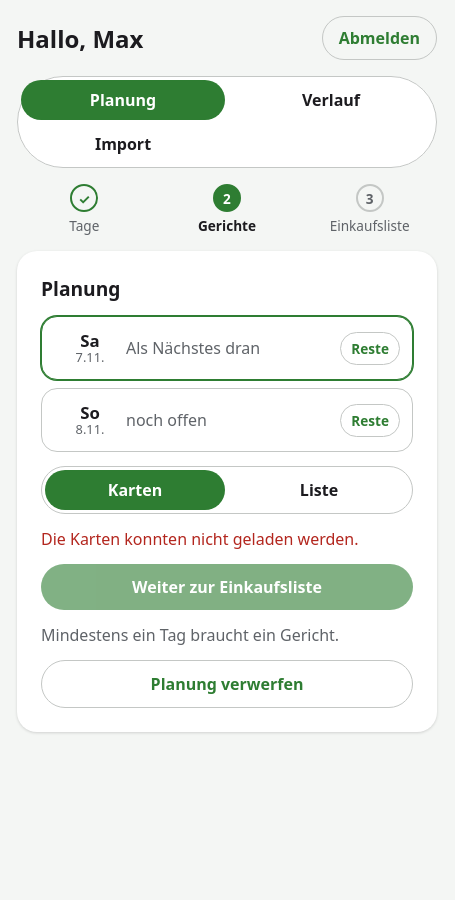
choosing a dinner for the next open day › shows long recipes in hours with a 'plan ahead' badge, in the order the server gives
Click the button "Liste".
click(319, 490)  # box top-left (229, 470), bottom-right (409, 510)
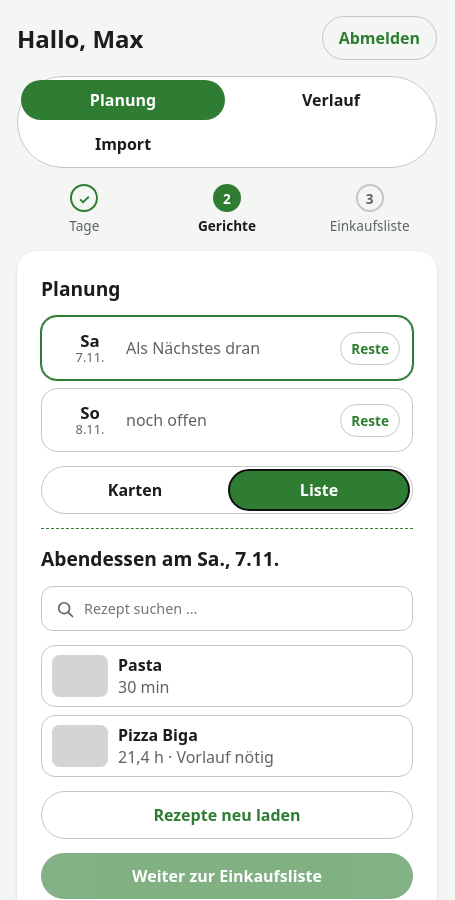
Expected: the button "Pasta 30 min" does not show "Vorlauf", top-left (41, 645), bottom-right (413, 707)
Expected: the button "Pizza Biga 21,4 h · Vorlauf nötig" is shown, top-left (41, 715), bottom-right (413, 777)
